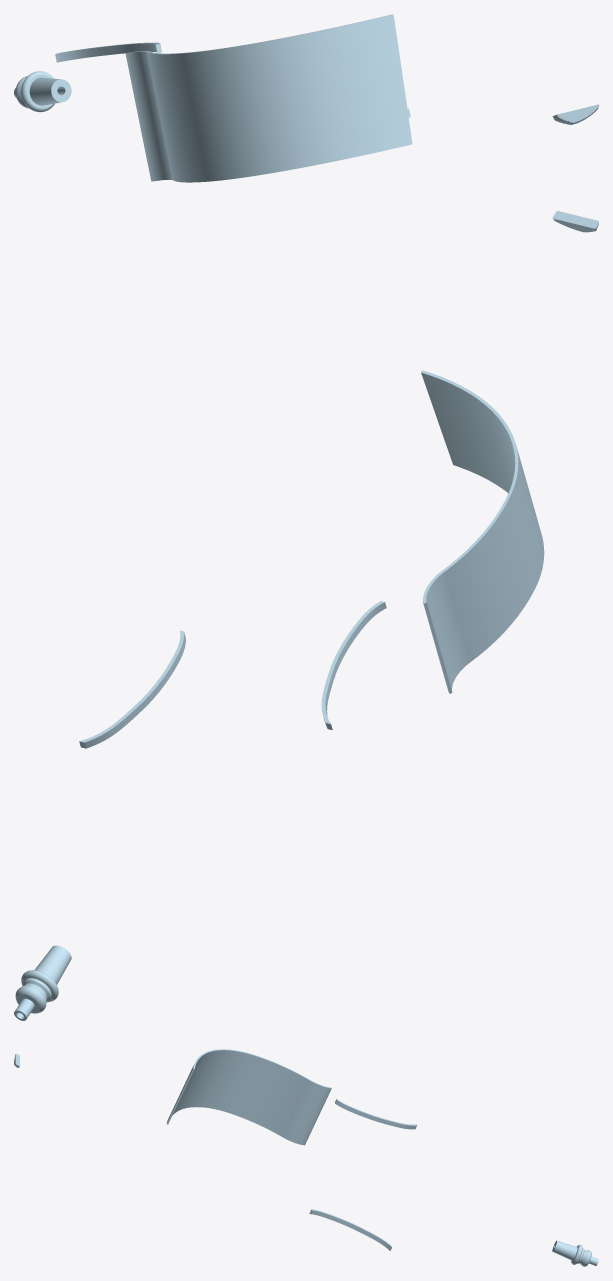
Rendered from BaseAdj_1.obj.
3 views of the same model, one above another, from view 1: azimuth 30°, elevation 25°; view 2: azimuth 150°, elevation 25°; view 3: azimuth 270°, elevation 25° (orthographic). The views are drawn at different scales.
Bounding box in the file's own units: 0.317 × 0.3991 × 1.02.
